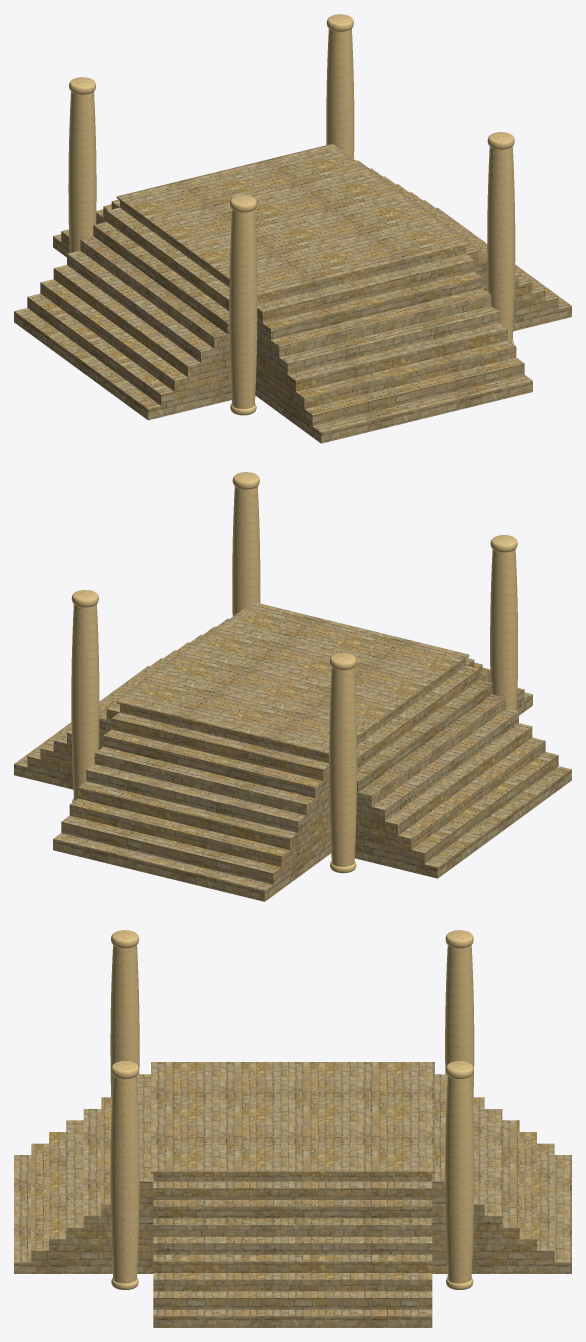
Rendered from GrandSteps.obj.
3 renders of one model, top to bottom at view 1: azimuth 30°, elevation 25°; view 2: azimuth 150°, elevation 25°; view 3: azimuth 270°, elevation 25°, orthographic. The views are drawn at different scales.
Parts seen in each view (by area): view 1: Mesh5 Model, Mesh2 Group3 Group1 Model, Mesh4 Group6 Group4 Model, Mesh1 Group2 Group1 Model, Mesh3 Group5 Group4 Model; view 2: Mesh5 Model, Mesh1 Group2 Group1 Model, Mesh3 Group5 Group4 Model, Mesh2 Group3 Group1 Model, Mesh4 Group6 Group4 Model; view 3: Mesh5 Model, Mesh4 Group6 Group4 Model, Mesh3 Group5 Group4 Model, Mesh2 Group3 Group1 Model, Mesh1 Group2 Group1 Model.
Part boxes in pixels (x1,y1,x2,y2): Mesh5 Model: (14,143,571,443); Mesh2 Group3 Group1 Model: (229,195,257,415); Mesh4 Group6 Group4 Model: (487,132,515,344); Mesh1 Group2 Group1 Model: (68,77,96,252); Mesh3 Group5 Group4 Model: (326,14,354,158); Mesh5 Model: (14,602,571,901); Mesh1 Group2 Group1 Model: (329,652,357,873); Mesh3 Group5 Group4 Model: (71,590,99,802); Mesh2 Group3 Group1 Model: (490,535,517,711); Mesh4 Group6 Group4 Model: (232,472,260,616); Mesh5 Model: (14,1062,571,1327); Mesh4 Group6 Group4 Model: (110,1061,139,1289); Mesh3 Group5 Group4 Model: (445,1061,474,1289); Mesh2 Group3 Group1 Model: (110,930,139,1097); Mesh1 Group2 Group1 Model: (445,930,474,1097).
Bounding box in the file's own units: 9.52 × 4.52 × 10.44.
